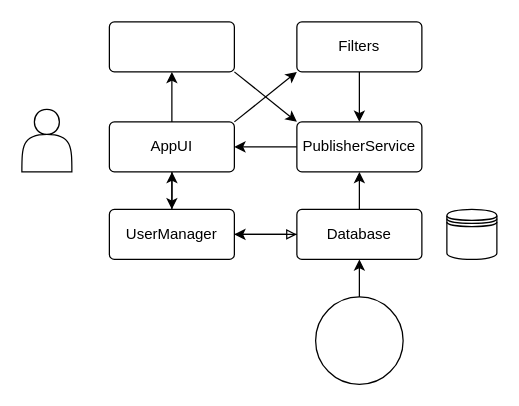
The diagram is 519 pixels wide and 406 high, and some of its shapes have lost their labels. The shapes that lost their labels are listed below. From the top down, each one's centre as x and y in pixels, then its label:
point 171,46: SearchService
point 358,340: External Publisher Service
